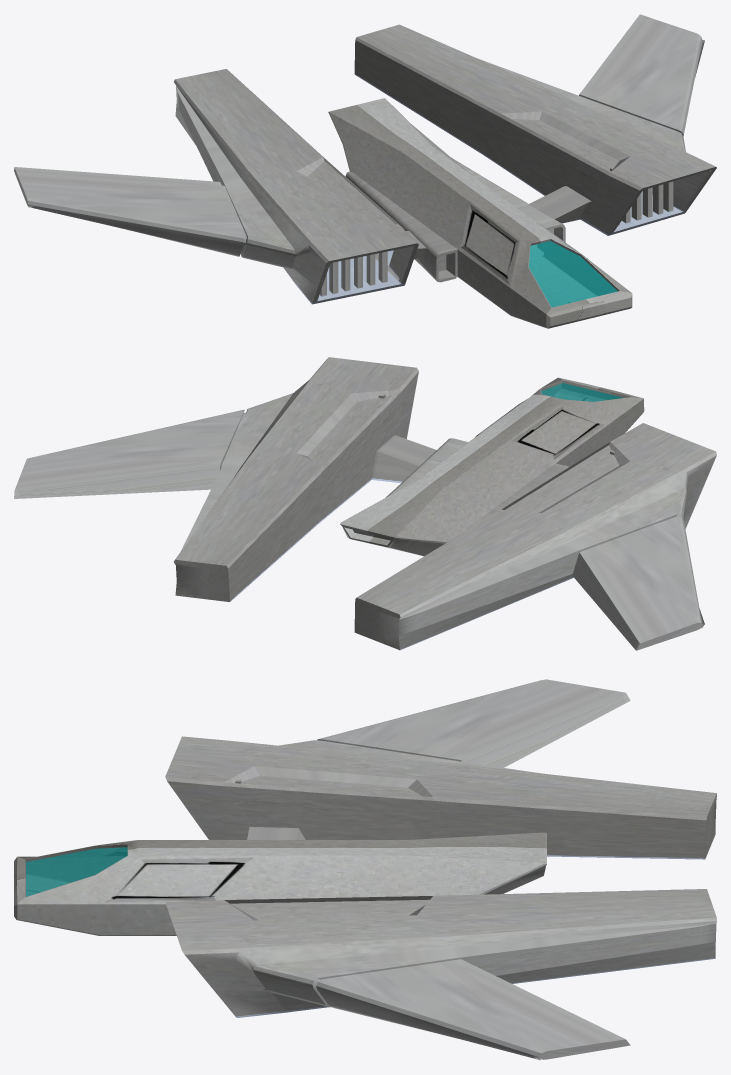
The model's file is nave.fbx.
3 renders of one model, top to bottom at view 1: azimuth 30°, elevation 25°; view 2: azimuth 150°, elevation 25°; view 3: azimuth 270°, elevation 25°, orthographic. The views are drawn at different scales.
Parts seen in each view (by area): view 1: pCube2 (×2), polySurface1, polySurface2, group2 (×2); view 2: pCube2 (×2), polySurface1, polySurface2; view 3: pCube2 (×2), polySurface1, polySurface2.
Boxes of the visible parts, x1,y1,x2,y2 form: pCube2 (×2): (14,14,716,304); polySurface1: (328,98,632,328); polySurface2: (529,241,617,307); group2 (×2): (318,150,673,296); pCube2 (×2): (14,357,716,650); polySurface1: (340,377,644,556); polySurface2: (541,383,623,401); pCube2 (×2): (165,679,716,1060); polySurface1: (14,832,546,935); polySurface2: (26,847,127,896).
Size of the model in its own units: 83.18 by 7.95 by 65.92.
